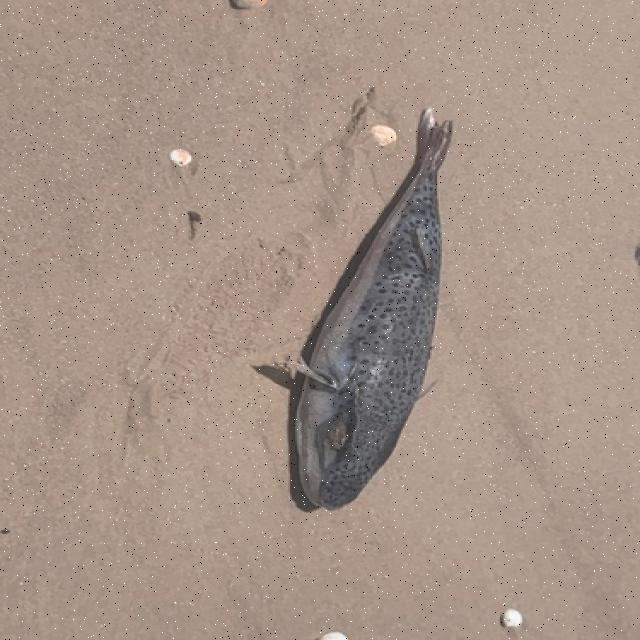Balik: (296, 109, 452, 509)
